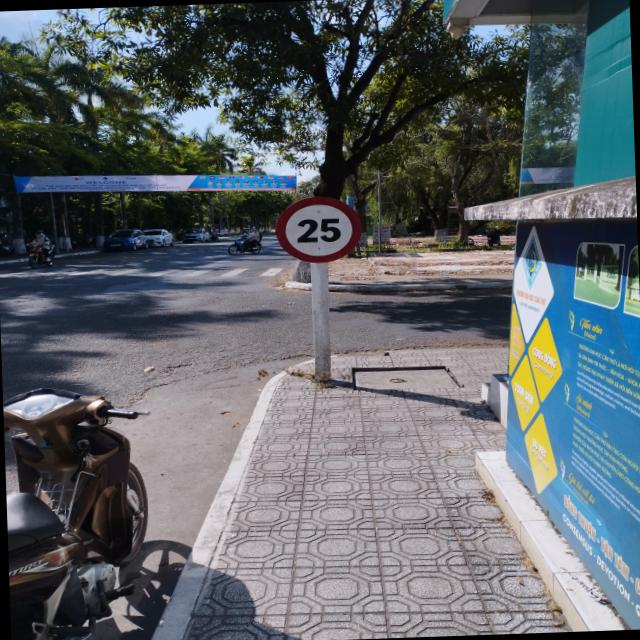Tre_Em: (275, 193, 362, 264)
